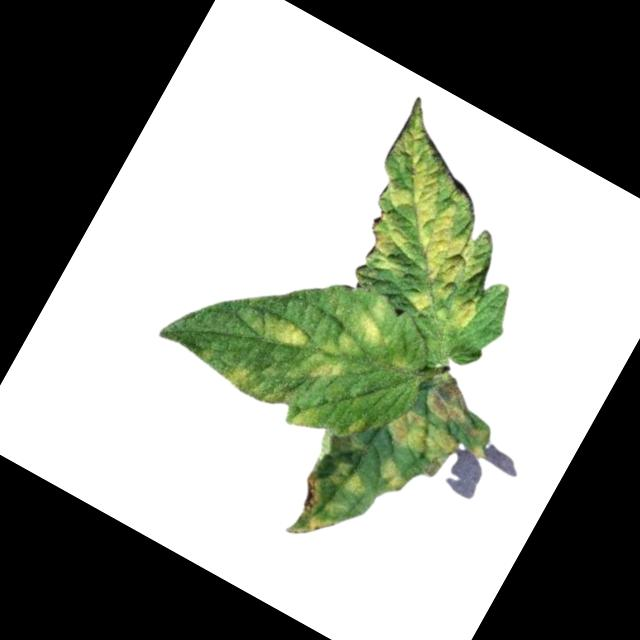Leaf_Mold: (326, 96, 552, 335), (374, 401, 464, 483), (278, 472, 356, 555), (420, 369, 483, 430), (351, 291, 404, 349), (300, 346, 355, 397), (286, 394, 329, 438), (328, 458, 373, 500), (322, 325, 368, 365), (268, 316, 311, 355), (373, 458, 413, 499), (226, 361, 255, 391)
